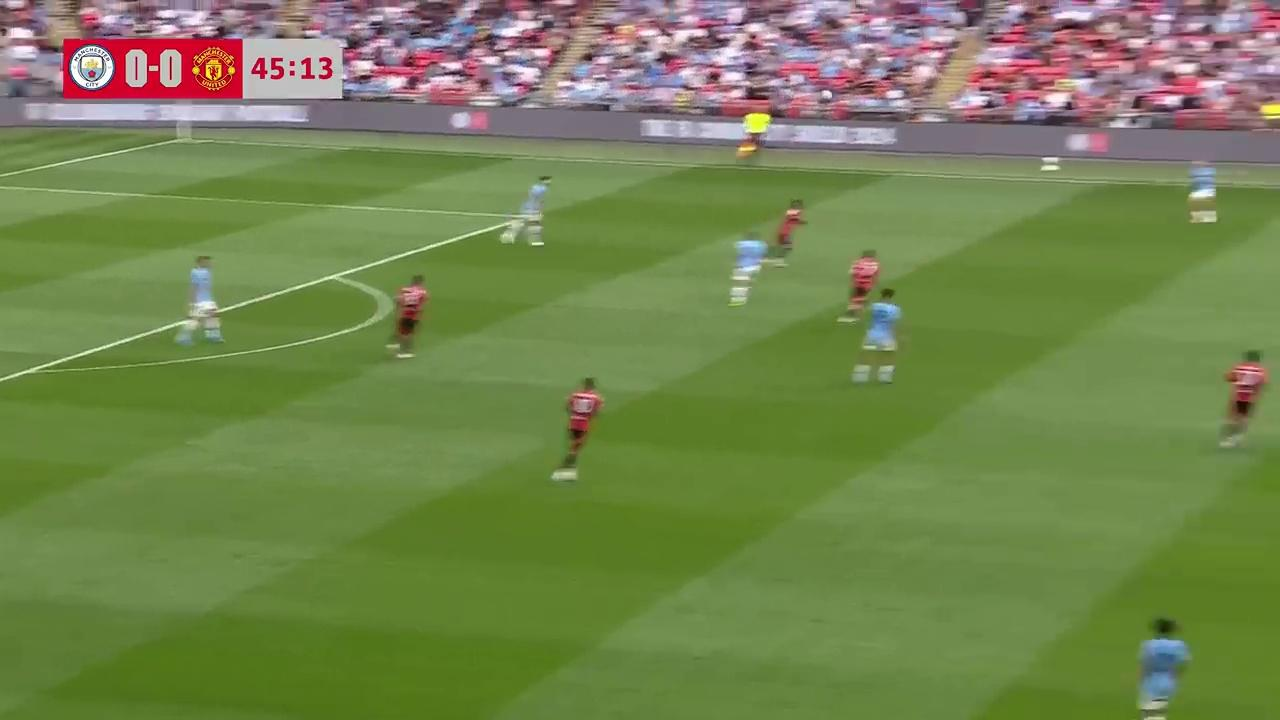player: (1136, 610, 1191, 720), (549, 377, 604, 485), (852, 287, 906, 382), (1219, 351, 1269, 449), (174, 254, 224, 346), (503, 175, 550, 247), (390, 274, 429, 358), (727, 229, 766, 305), (840, 250, 880, 321), (768, 199, 808, 264), (1186, 158, 1219, 225)
referee: (735, 112, 766, 163)
